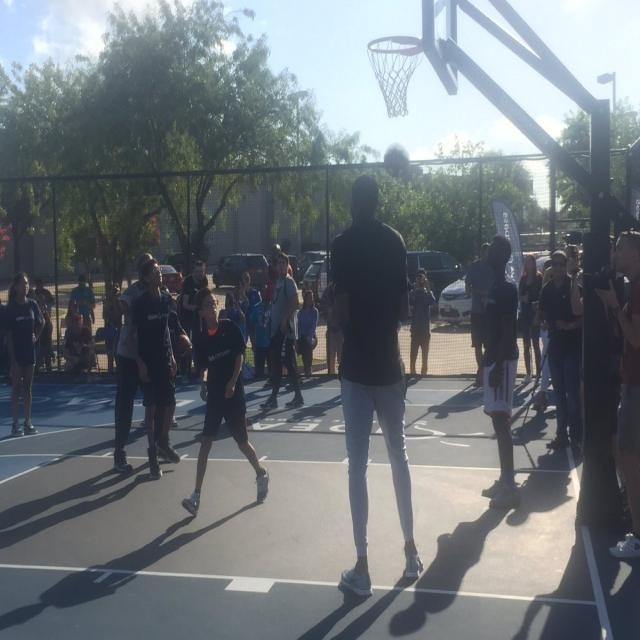body: (324, 169, 428, 602), (0, 473, 265, 633), (40, 382, 342, 473), (481, 437, 598, 640), (178, 283, 272, 521), (296, 522, 481, 639), (467, 232, 523, 510), (594, 227, 640, 563), (110, 252, 171, 474), (130, 256, 181, 481), (534, 247, 584, 453), (258, 250, 306, 412), (3, 268, 48, 439), (429, 386, 552, 439), (158, 284, 194, 429), (552, 248, 583, 416), (464, 242, 495, 370), (179, 260, 209, 384), (518, 254, 544, 387), (233, 268, 262, 383), (408, 266, 437, 376), (58, 312, 96, 384), (320, 270, 344, 376), (248, 284, 274, 379), (294, 288, 320, 383), (101, 281, 123, 377), (31, 292, 54, 381), (69, 273, 97, 339), (265, 243, 294, 304), (227, 289, 248, 367), (64, 297, 85, 325), (34, 277, 54, 305), (540, 258, 553, 274), (26, 288, 37, 300)
